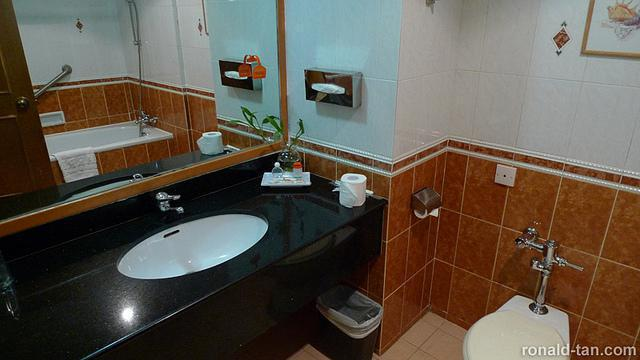Bote de Basura: (309, 277, 379, 359)
Lavamanos: (111, 184, 271, 284)
Sanitario: (452, 212, 577, 359)
